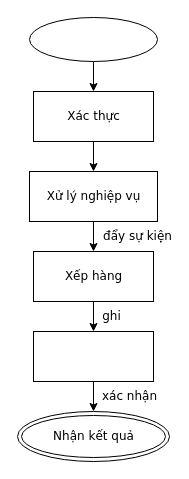
The diagram is 189 pixels wide and 479 high, and some of its shapes have lost their labels. Here are the shapes that lost their labels. From the top down, the centre of each, then its label:
At (93,39): "Gửi yêu cầu".
At (93,356): "Lưu bản ghi".
